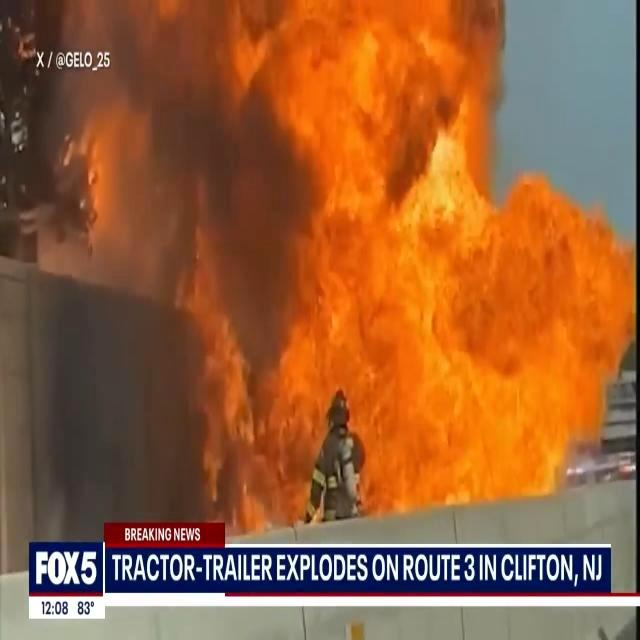fire: (129, 4, 471, 296), (380, 184, 640, 503), (188, 162, 296, 510), (288, 226, 376, 380)
